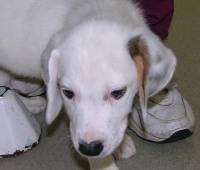dog: (43, 2, 175, 169)
